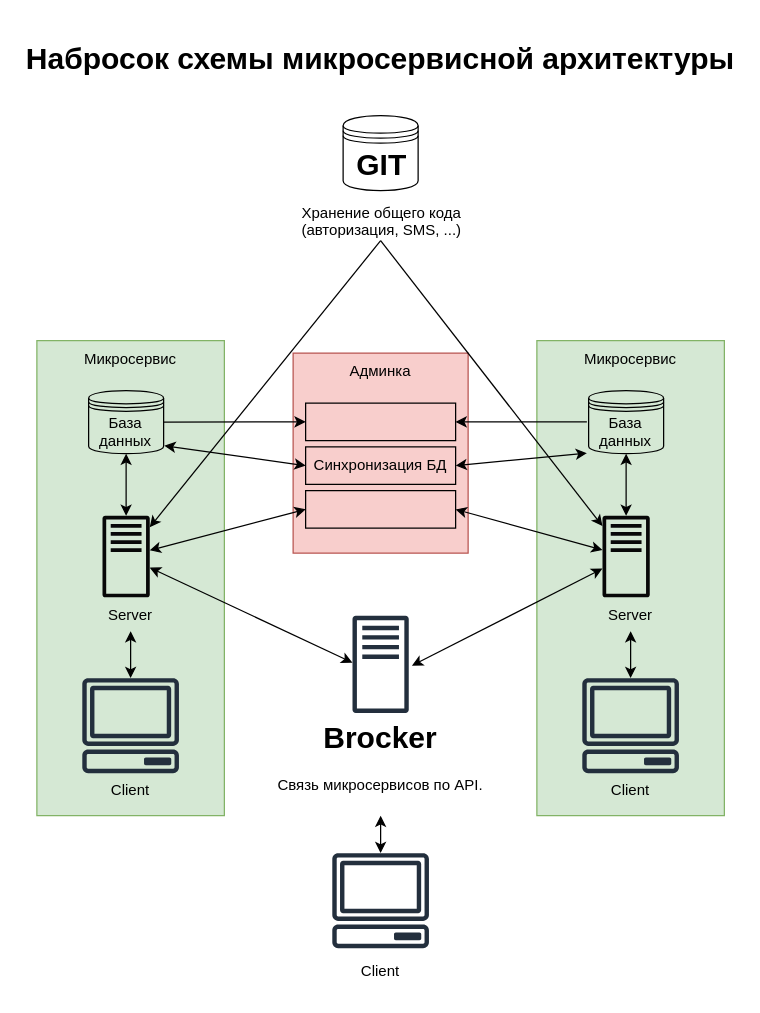
This 760x1013 diagram has some shape labels left out. The centre of each missing label's shape, as x and y in pixels:
"Backup" goes at point 380,421.
"Мониторинг" goes at point 380,508.
